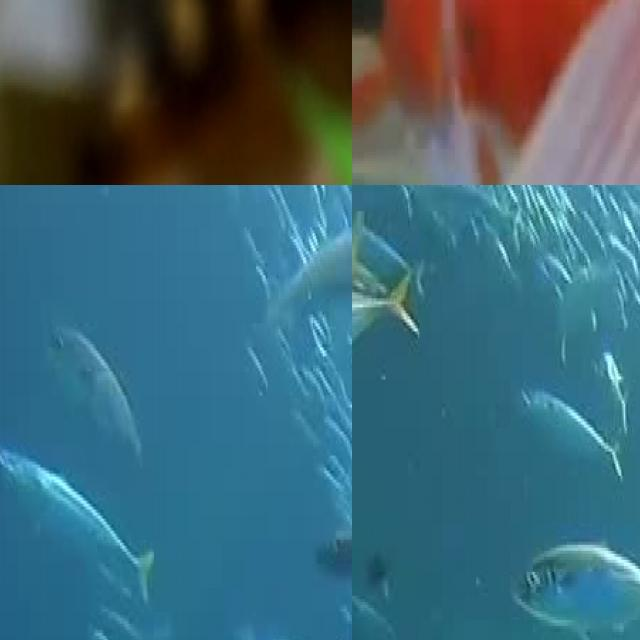fish: (0, 0, 352, 185), (352, 0, 640, 185)
